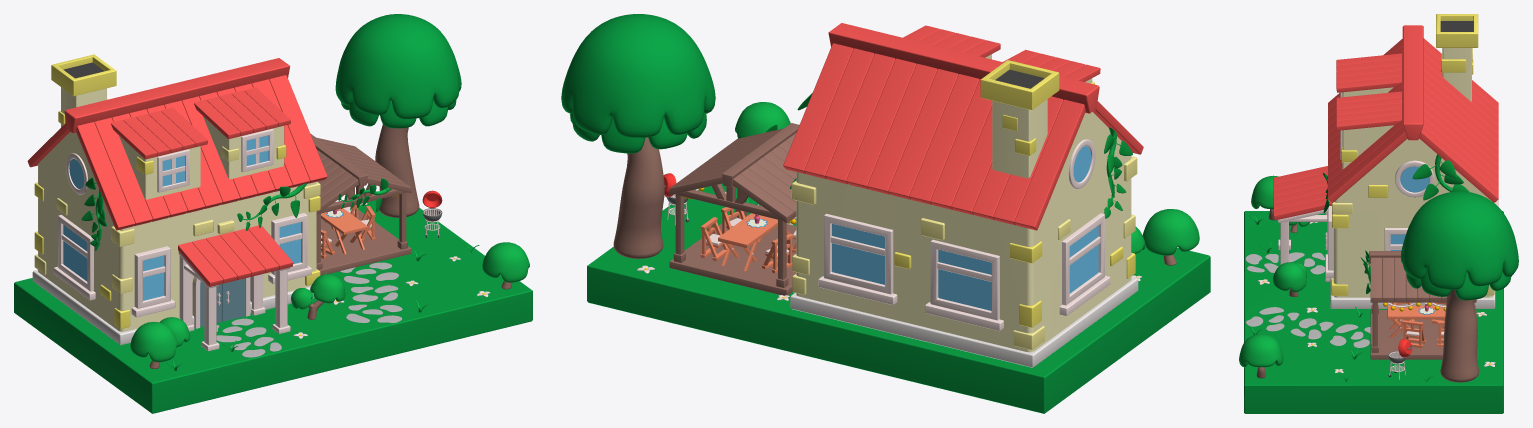
The model's file is Town_Island_20.glb.
3 views of the same model, side by side, from view 1: azimuth 30°, elevation 25°; view 2: azimuth 150°, elevation 25°; view 3: azimuth 270°, elevation 25° (orthographic). The views are drawn at different scales.
Visible parts, largest first — view 1: Town_20_House_1, Town_20_Base_1, Town_20_Tree_1, Town_20_Summer_Gazebo_1, Town_20_Bush_4, Town_20_Bush_2, Town_20_Bush_1, Town_20_Table_1, Town_20_Ivy_1, Town_20_Ivy_4, Town_20_Path_7, Town_20_Barbecue_1 (+5 smaller); view 2: Town_20_House_1, Town_20_Base_1, Town_20_Tree_1, Town_20_Summer_Gazebo_1, Town_20_Bush_2, Town_20_Table_1, Town_20_Bush_4, Town_20_Ivy_4, Town_20_Chair_1; view 3: Town_20_House_1, Town_20_Base_1, Town_20_Tree_1, Town_20_Summer_Gazebo_1, Town_20_Bush_4, Town_20_Ivy_2, Town_20_Bush_1, Town_20_Table_1, Town_20_Bush_2, Town_20_Path_7, Town_20_Barbecue_1, Town_20_Path_5 (+4 smaller).
Boxes of the visible parts, <box> form: Town_20_House_1: <box>27,54,327,351</box>; Town_20_Base_1: <box>14,200,532,413</box>; Town_20_Tree_1: <box>335,14,461,217</box>; Town_20_Summer_Gazebo_1: <box>310,133,411,275</box>; Town_20_Bush_4: <box>482,242,529,289</box>; Town_20_Bush_2: <box>130,321,177,368</box>; Town_20_Bush_1: <box>291,274,345,319</box>; Town_20_Table_1: <box>321,208,367,254</box>; Town_20_Ivy_1: <box>237,183,307,230</box>; Town_20_Ivy_4: <box>81,177,106,250</box>; Town_20_Path_7: <box>346,304,402,322</box>; Town_20_Barbecue_1: <box>422,190,442,237</box>; Town_20_House_1: <box>783,23,1143,367</box>; Town_20_Base_1: <box>587,183,1210,413</box>; Town_20_Tree_1: <box>561,14,715,258</box>; Town_20_Summer_Gazebo_1: <box>669,123,799,295</box>; Town_20_Bush_2: <box>1142,209,1199,265</box>; Town_20_Table_1: <box>718,213,789,271</box>; Town_20_Bush_4: <box>735,102,790,138</box>; Town_20_Ivy_4: <box>1104,127,1132,218</box>; Town_20_Chair_1: <box>700,217,727,260</box>; Town_20_House_1: <box>1273,14,1498,308</box>; Town_20_Base_1: <box>1244,211,1503,413</box>; Town_20_Tree_1: <box>1400,191,1518,382</box>; Town_20_Summer_Gazebo_1: <box>1369,251,1476,359</box>; Town_20_Bush_4: <box>1239,334,1283,378</box>; Town_20_Ivy_2: <box>1412,154,1469,200</box>; Town_20_Bush_1: <box>1273,262,1306,296</box>; Town_20_Table_1: <box>1387,305,1445,337</box>; Town_20_Bush_2: <box>1251,175,1278,220</box>; Town_20_Path_7: <box>1246,307,1299,331</box>; Town_20_Barbecue_1: <box>1388,339,1412,379</box>; Town_20_Path_5: <box>1329,324,1370,347</box>.
Bounding box in the file's own units: 15.95 × 9.2 × 9.84.
44 materials, 44 textured.
